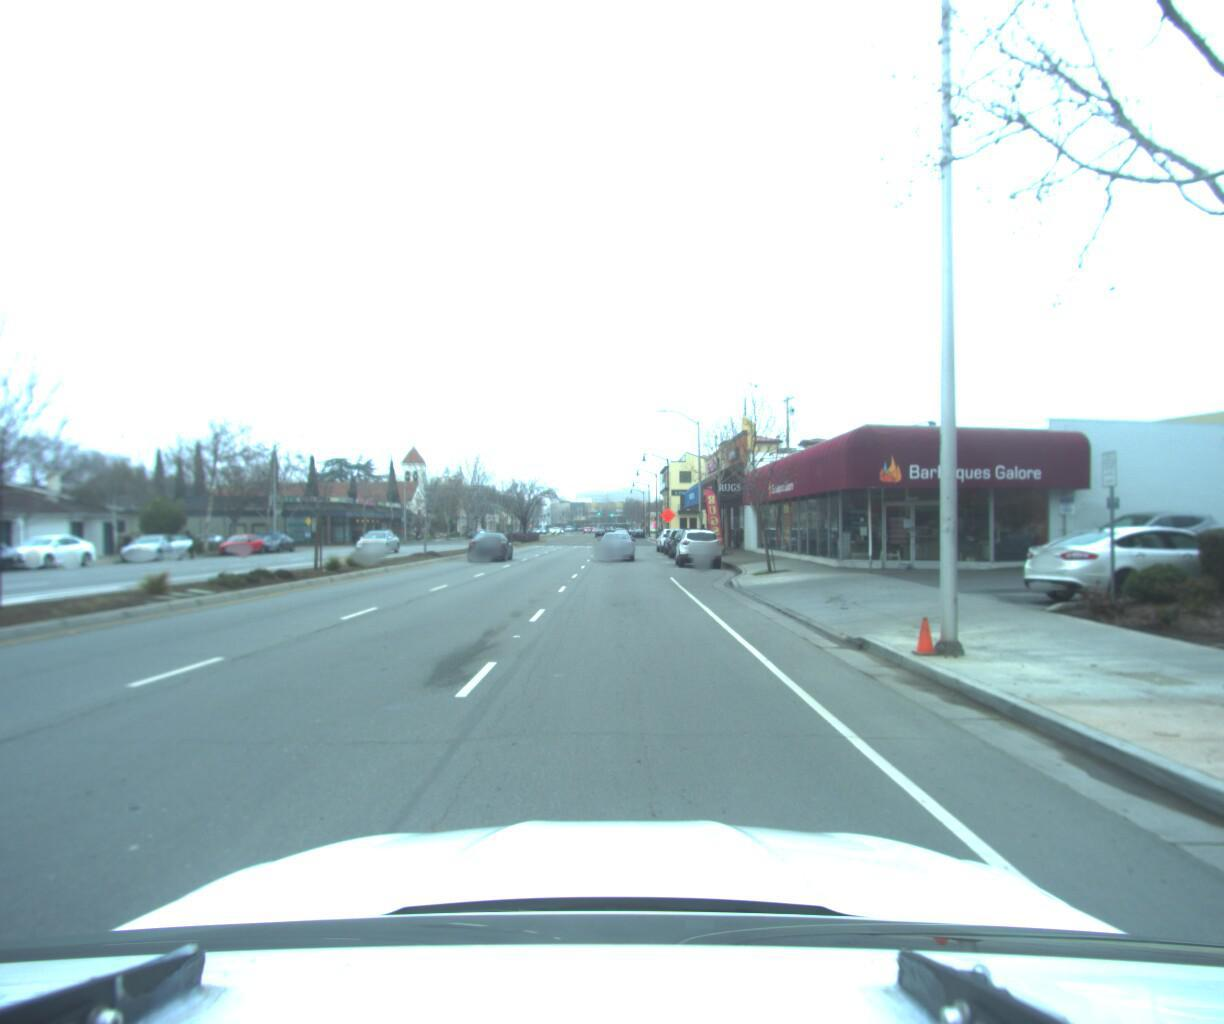car: (1008, 517, 1224, 606), (1056, 502, 1224, 568), (0, 534, 105, 573), (118, 532, 192, 564), (675, 523, 727, 564), (463, 528, 517, 560), (596, 522, 636, 559), (351, 527, 401, 552), (219, 531, 270, 555), (0, 537, 29, 578), (250, 531, 300, 553)
